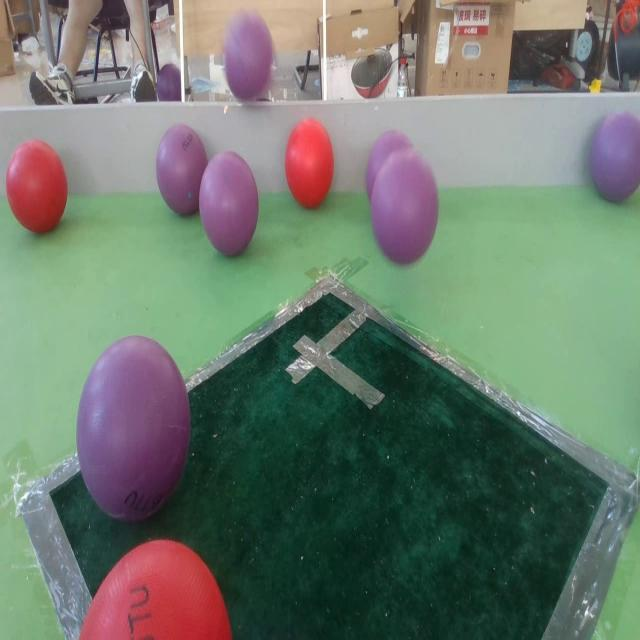invalid: (77, 333, 195, 518), (368, 143, 442, 281), (198, 150, 262, 256), (155, 126, 208, 215), (222, 12, 272, 99), (592, 114, 640, 202), (366, 132, 418, 199)
red: (80, 541, 234, 640), (6, 142, 68, 234), (286, 119, 334, 207)
